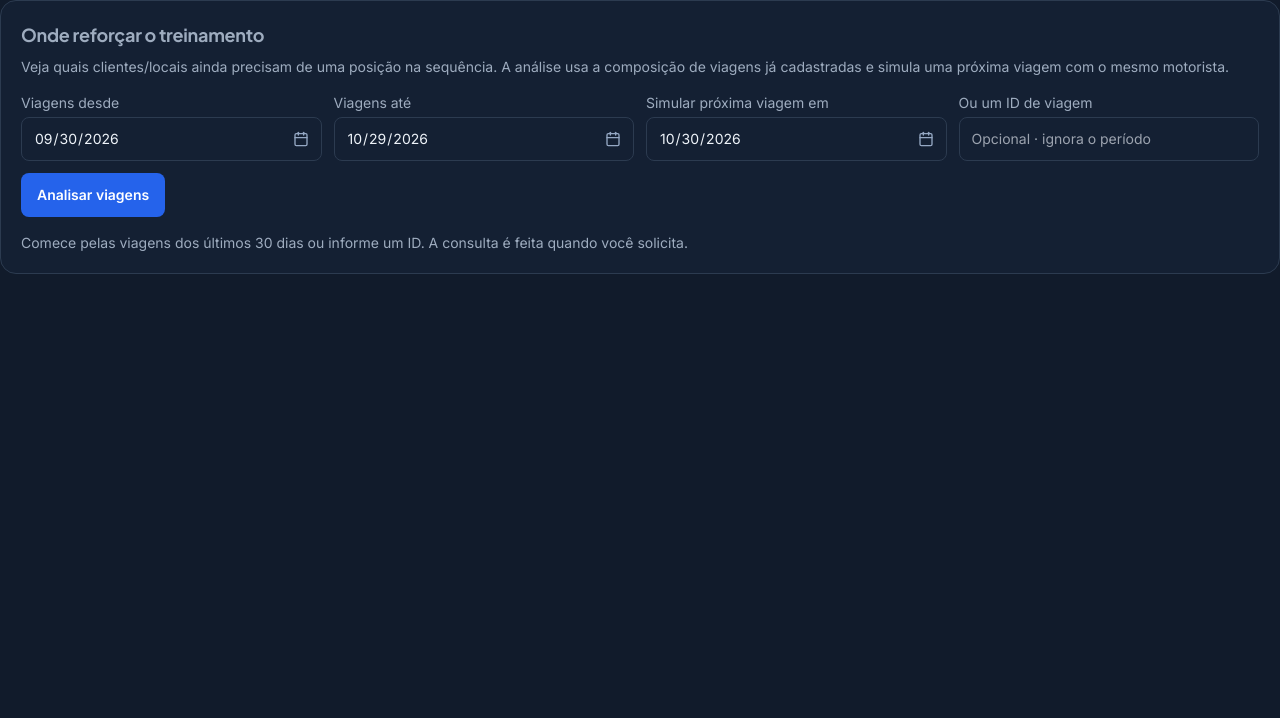
Scenario: ID específico e erro de atualização preservam resultados identificados como anteriores
The image size is (1280, 718).
Type "128" into the field labelled "Ou um ID de viagem" at (1109, 139), box [958,117,1259,161]
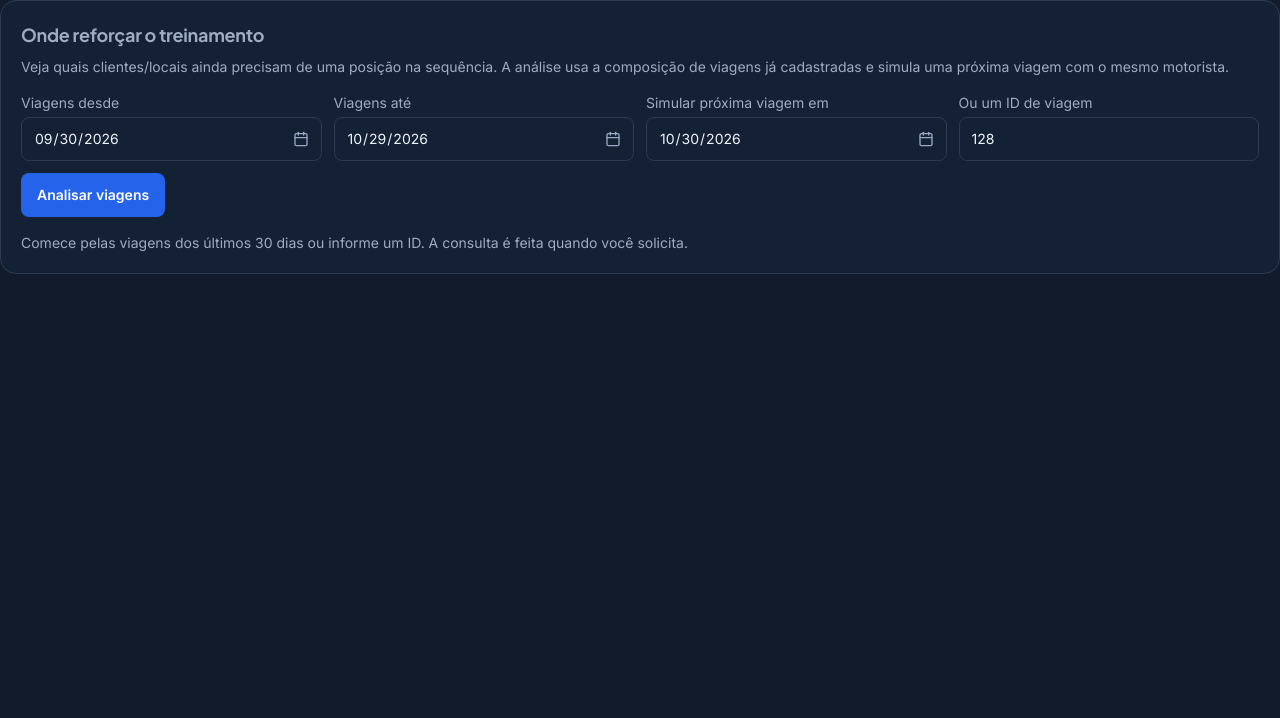
Click the button "Analisar viagens" at (93, 195), box [21,173,165,217]
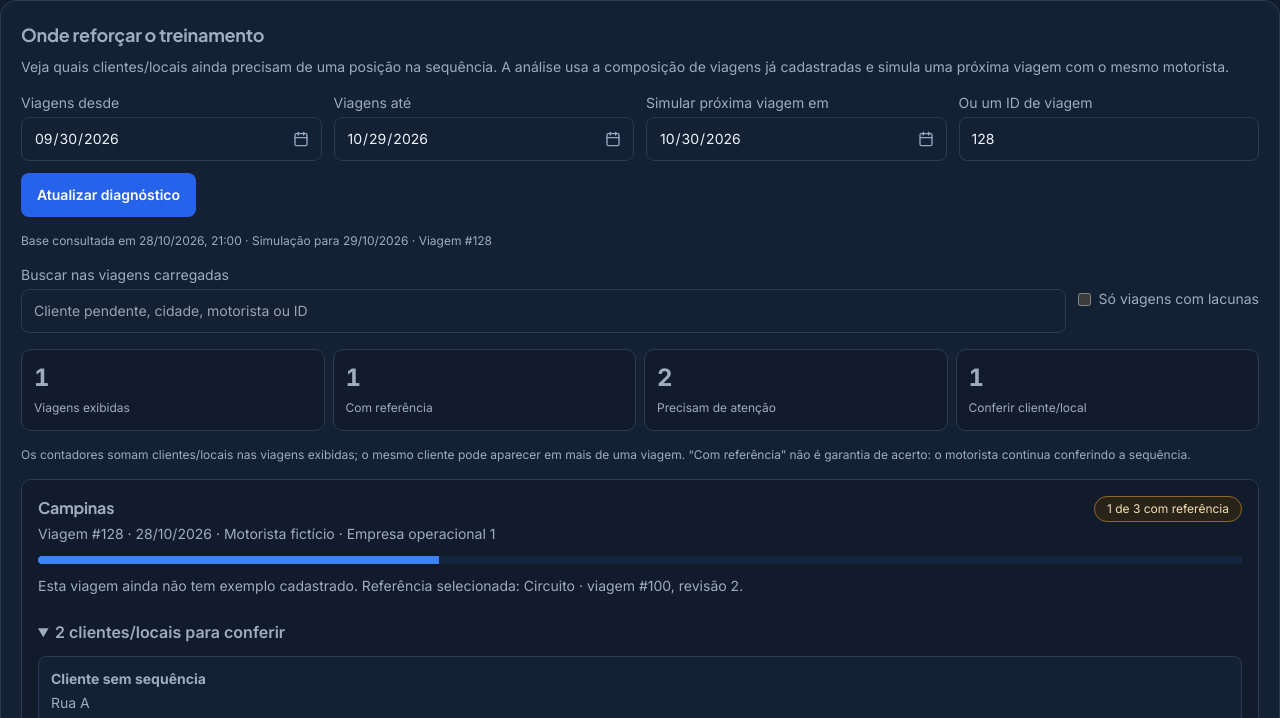
Expected: the heading "Campinas" is shown, [38,496,114,520]
Click the button "Atualizar diagnóstico" at (108, 195), box [21,173,196,217]
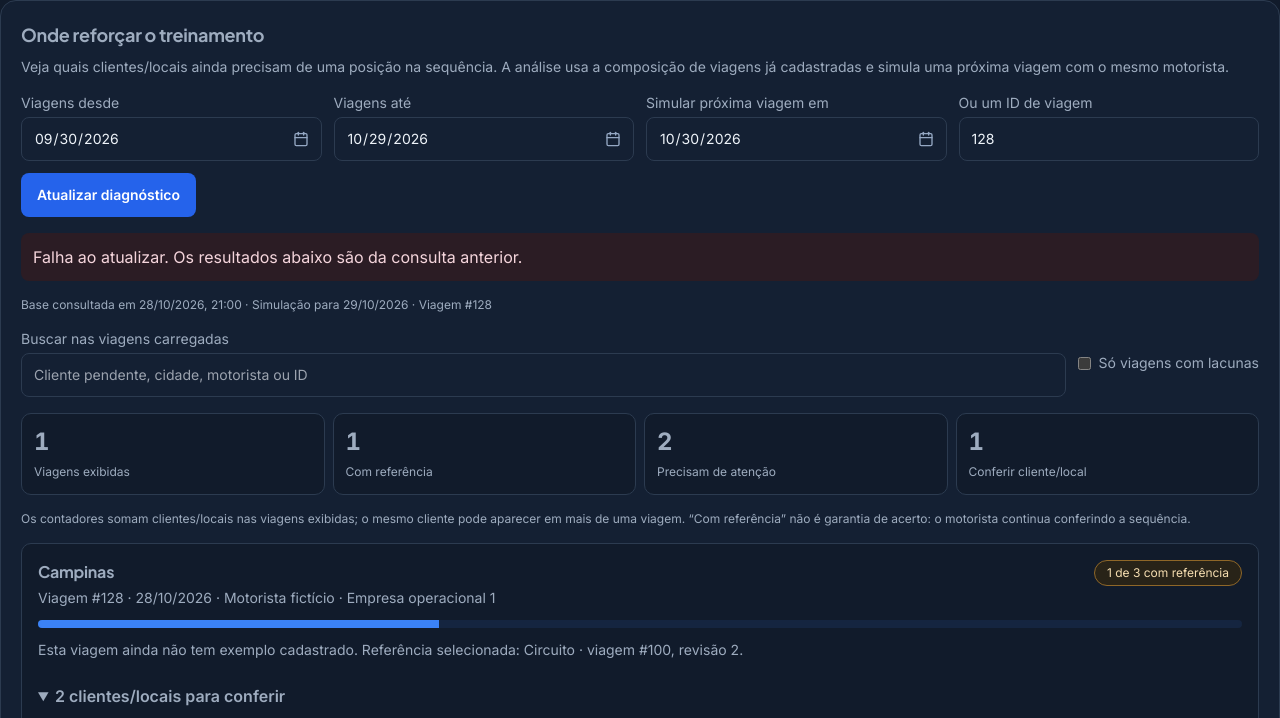
Expected: the heading "Campinas" is shown, [38,560,114,584]
Expected: the message shows "Os resultados abaixo são da consulta anterior.", [169,247,522,267]
